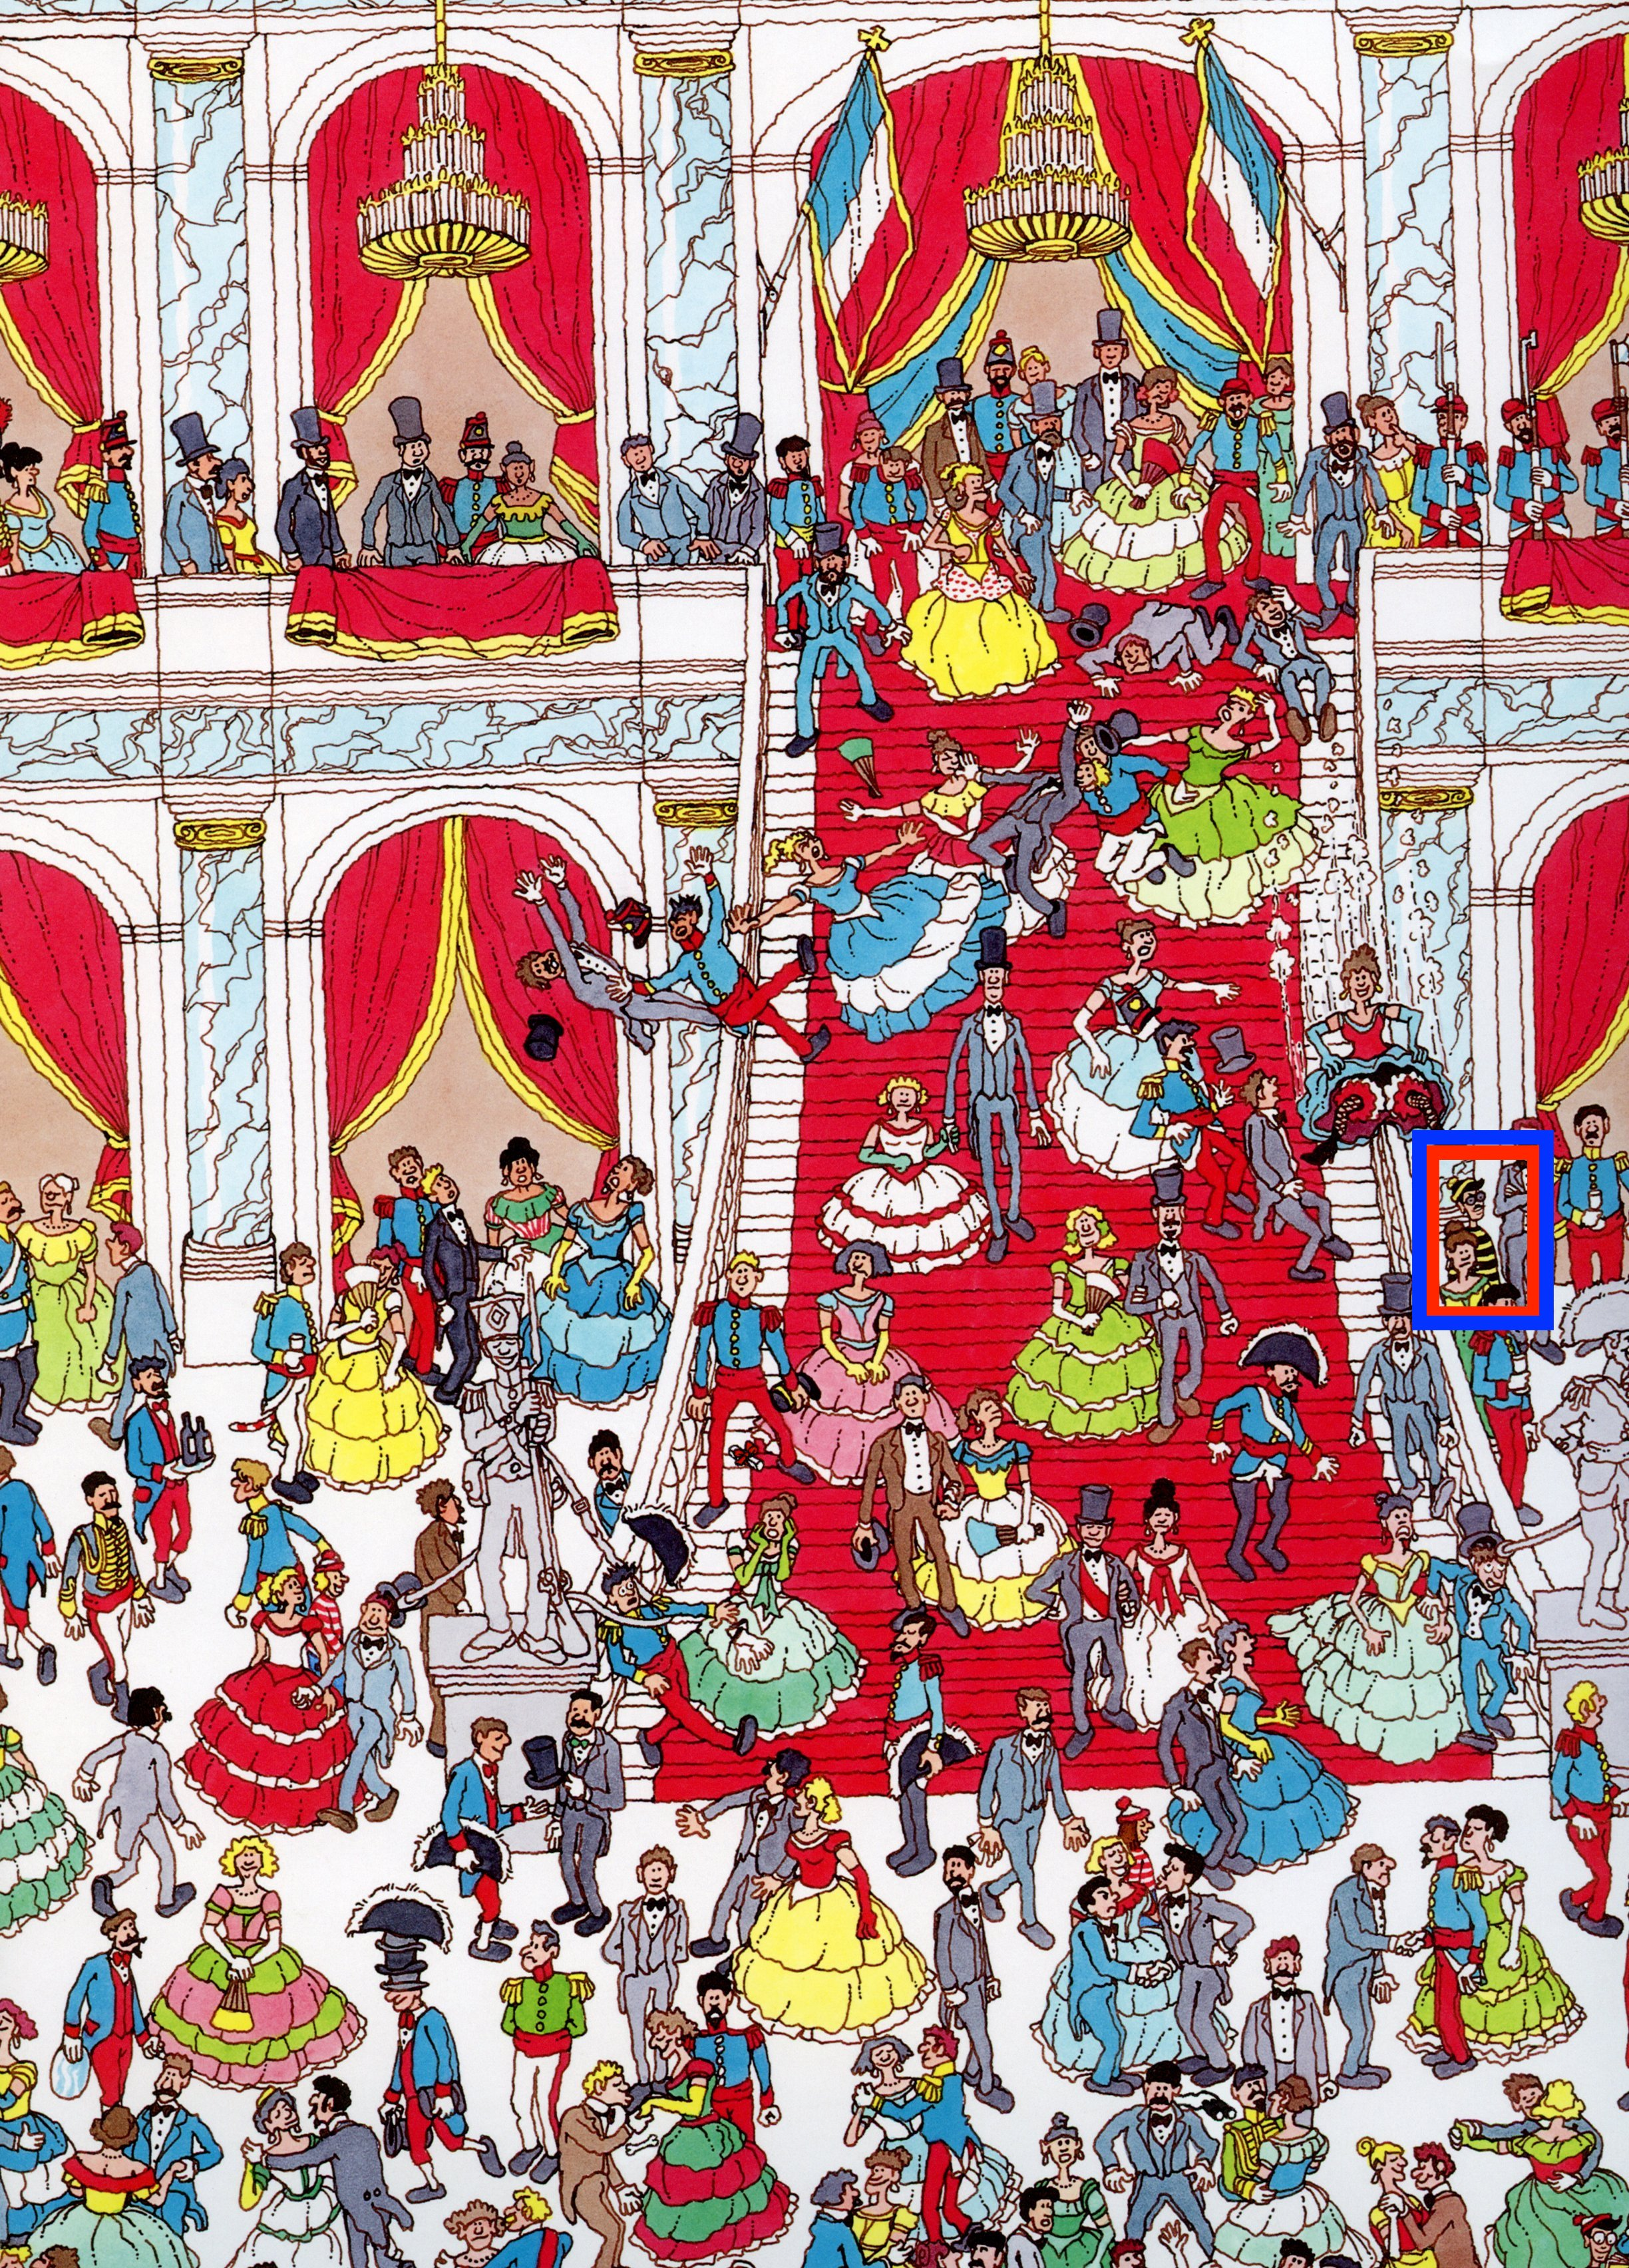odlaw: (1416, 1130, 1548, 1324)
